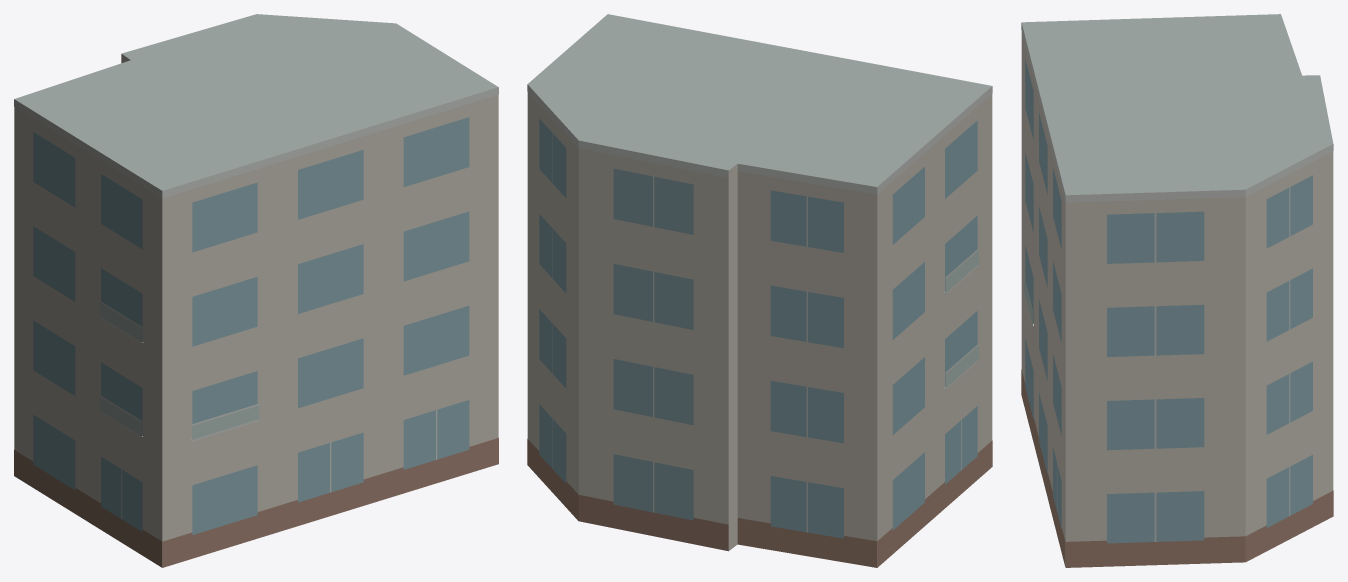
File: survey-upis-32629942.glb
3 renders of one model, left to right at view 1: azimuth 30°, elevation 25°; view 2: azimuth 150°, elevation 25°; view 3: azimuth 270°, elevation 25°, orthographic. The views are drawn at different scales.
Visible parts, largest first — view 1: survey-upis-32629942.tmp; view 2: survey-upis-32629942.tmp; view 3: survey-upis-32629942.tmp.
Part boxes in pixels (x1=…): survey-upis-32629942.tmp: x1=14, y1=14, x2=498, y2=567; survey-upis-32629942.tmp: x1=527, y1=14, x2=992, y2=567; survey-upis-32629942.tmp: x1=1021, y1=14, x2=1333, y2=567.
Bounding box in the file's own units: 12.94 × 12.4 × 9.42.
